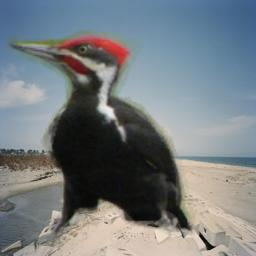Woodpecker: (8, 22, 197, 246)
